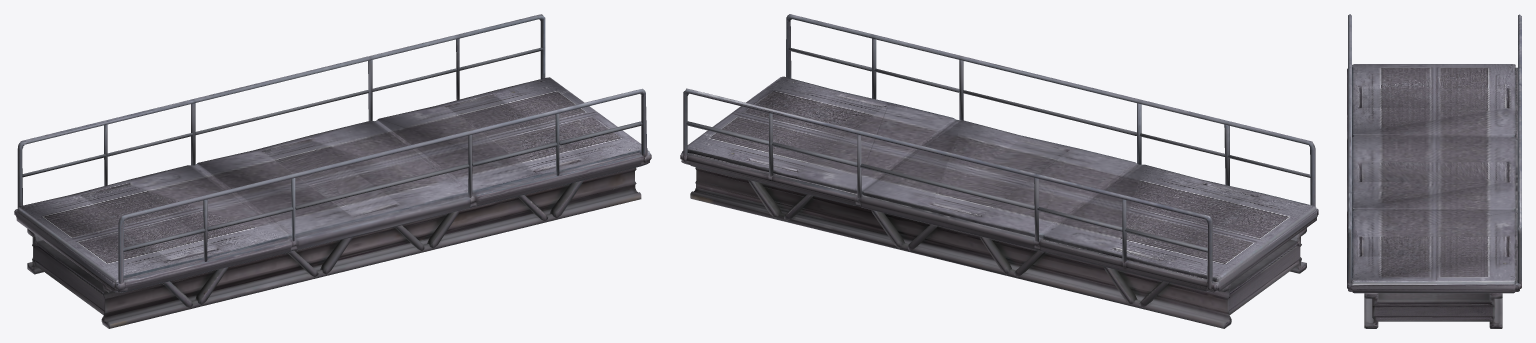
File: tripo_convert_6afed0e9-a143-4237-89b9-dc1084bfa35c.fbx
3 views of the same model, side by side, from view 1: azimuth 30°, elevation 25°; view 2: azimuth 150°, elevation 25°; view 3: azimuth 270°, elevation 25° (orthographic). The views are drawn at different scales.
Visible parts, largest first — view 1: tripo_node_6afed0e9; view 2: tripo_node_6afed0e9; view 3: tripo_node_6afed0e9.
Boxes of the visible parts, left/top/right/bottom form: tripo_node_6afed0e9: left=14, top=14, right=651, bottom=328; tripo_node_6afed0e9: left=680, top=14, right=1318, bottom=328; tripo_node_6afed0e9: left=1347, top=14, right=1521, bottom=328.
Size of the model in its own units: 0.998 by 0.2129 by 0.3379.
Materials: 1 (1 with a texture image).
